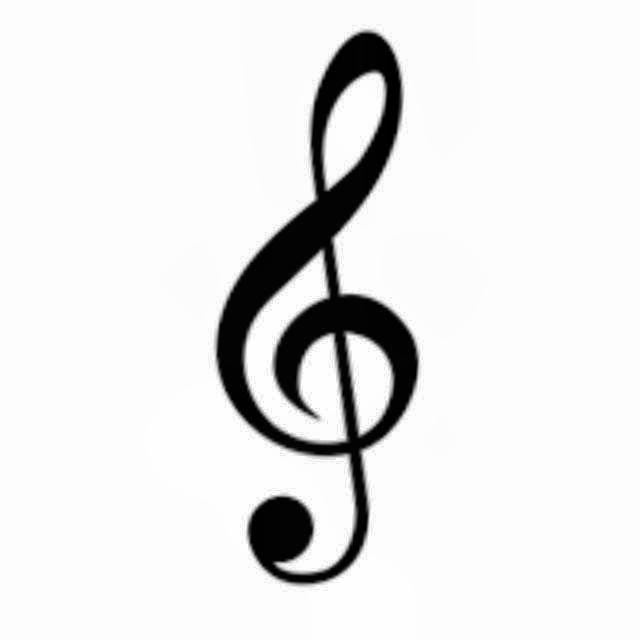Treble-clef: (170, 27, 474, 595)
